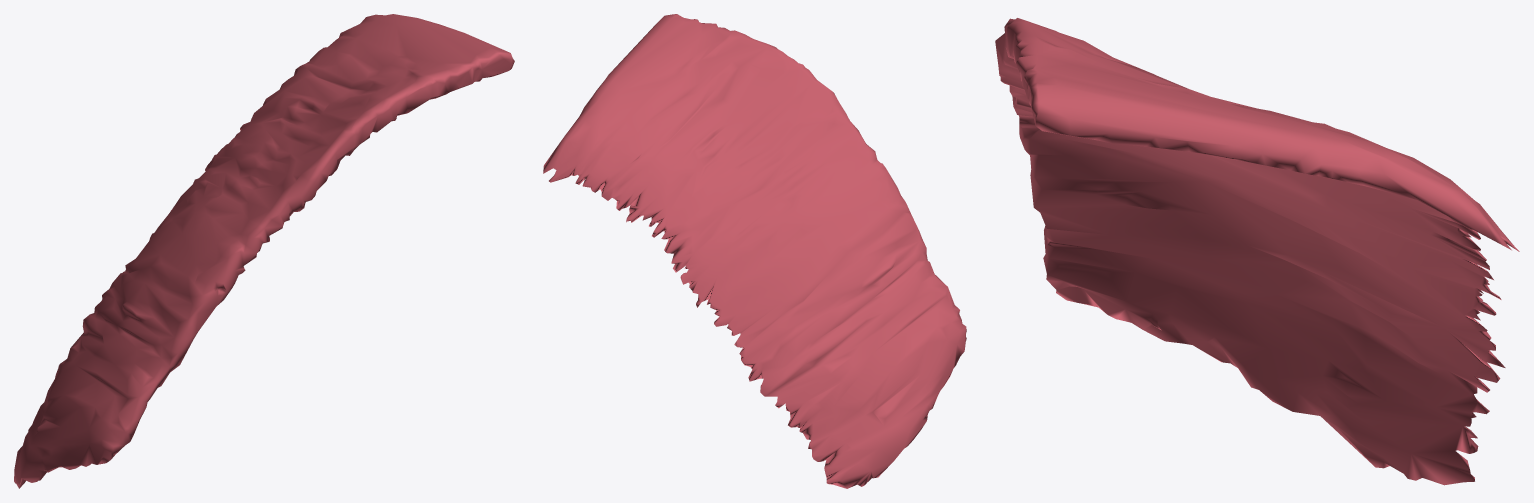
3 renders of one model, left to right at view 1: azimuth 30°, elevation 25°; view 2: azimuth 150°, elevation 25°; view 3: azimuth 270°, elevation 25°, orthographic. The views are drawn at different scales.
Parts seen in each view (by area): view 1: 右侧枕肌; view 2: 右侧枕肌; view 3: 右侧枕肌.
Part boxes in pixels (x1=…): 右侧枕肌: x1=14, y1=14, x2=514, y2=488; 右侧枕肌: x1=543, y1=14, x2=966, y2=488; 右侧枕肌: x1=995, y1=18, x2=1519, y2=485.
Bounding box in the file's own units: 0.0686 × 0.0686 × 0.0487.
